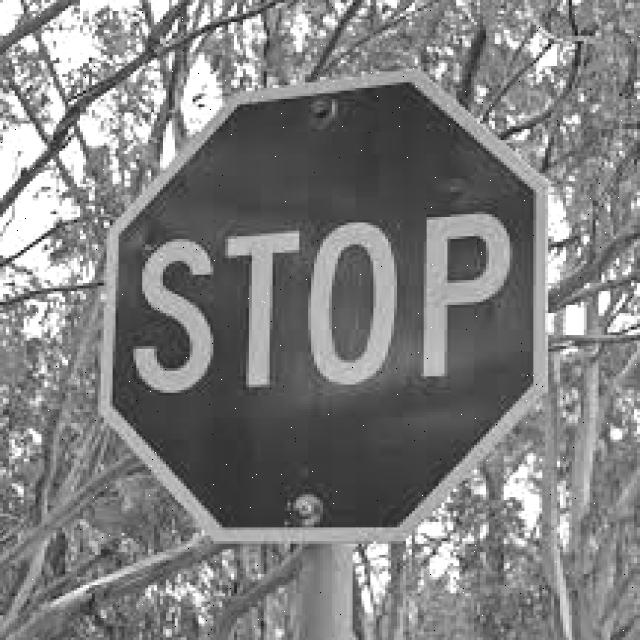stop sign: (112, 76, 547, 538)
